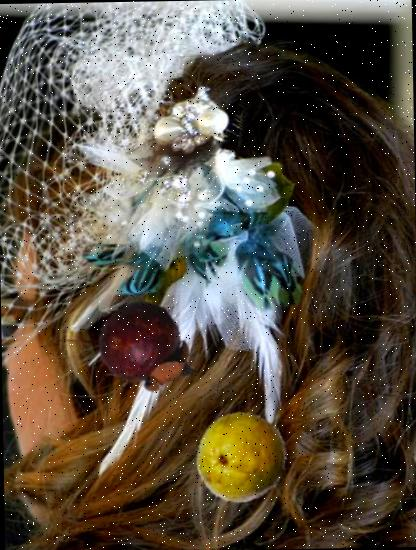Guava: (193, 410, 289, 506)
Mangostan: (92, 297, 198, 402)
